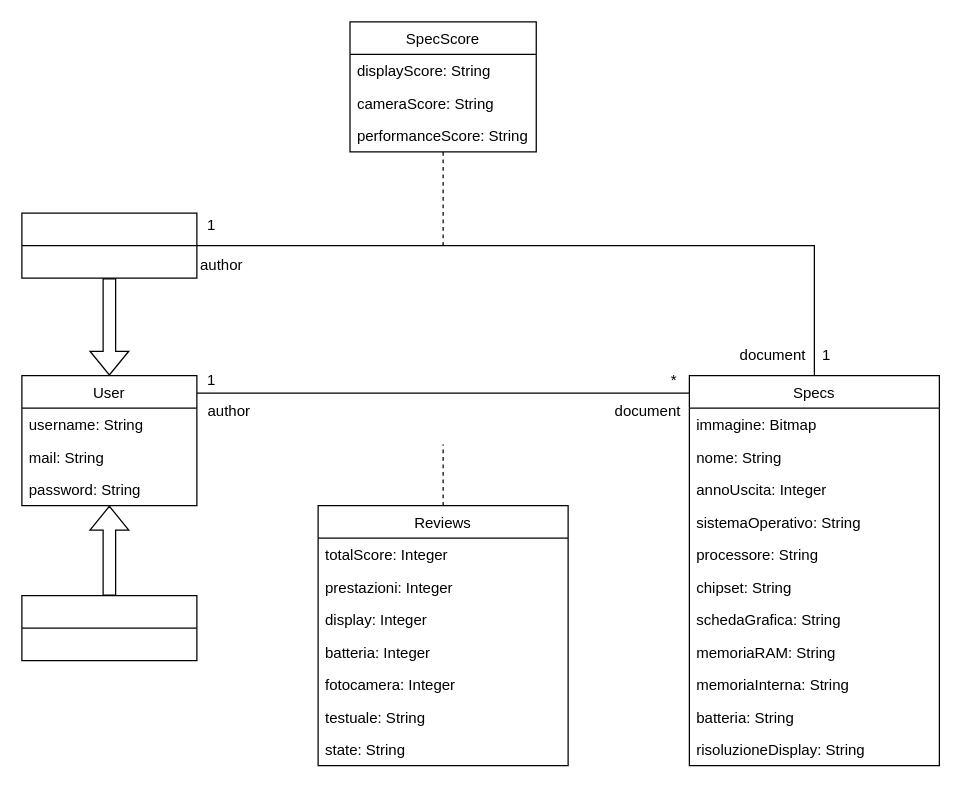
Image size: 961x791. Some labels were removed from this diagram. The centre of each missing label's shape, as x and y in pixels:
"Manager" goes at point (109, 627).
"Reviewer" goes at point (109, 245).
